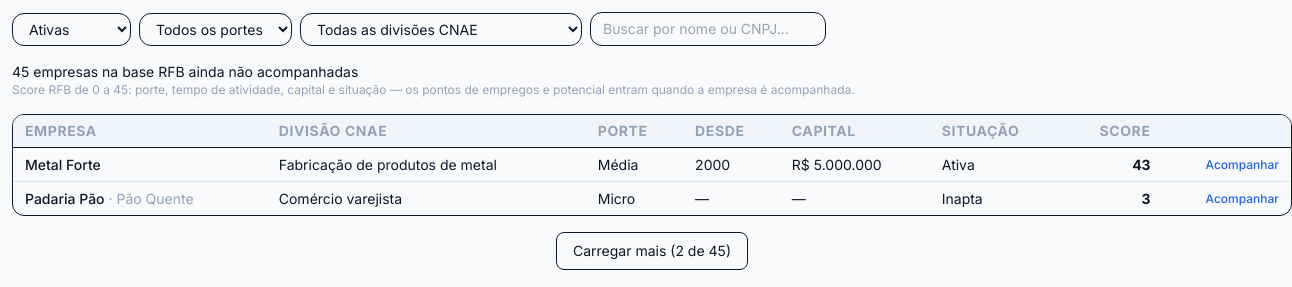
Test: DescobrirRfb › troca de filtro que falha limpa as linhas do filtro anterior
expect the text "Metal Forte" is shown: met, box [25, 156, 101, 172]
Select "Média" in the dropdown named "Porte": (216, 29) [139, 12, 292, 46]
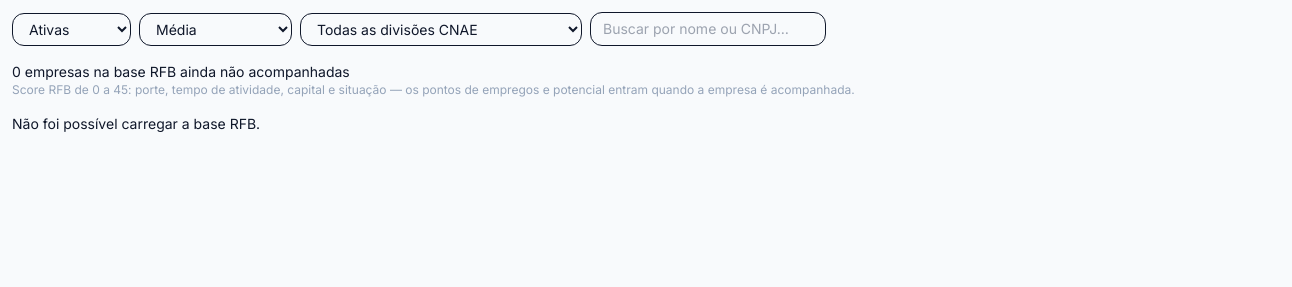
expect the message reads "Não foi possível carregar a base RFB.": met, box [12, 115, 260, 132]
expect the table is gone: met
expect the button "Carregar mais" is gone: met
